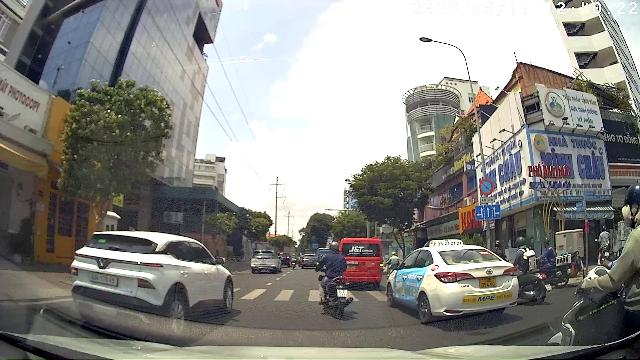131a-cam-do-xe: (480, 179, 494, 195)
